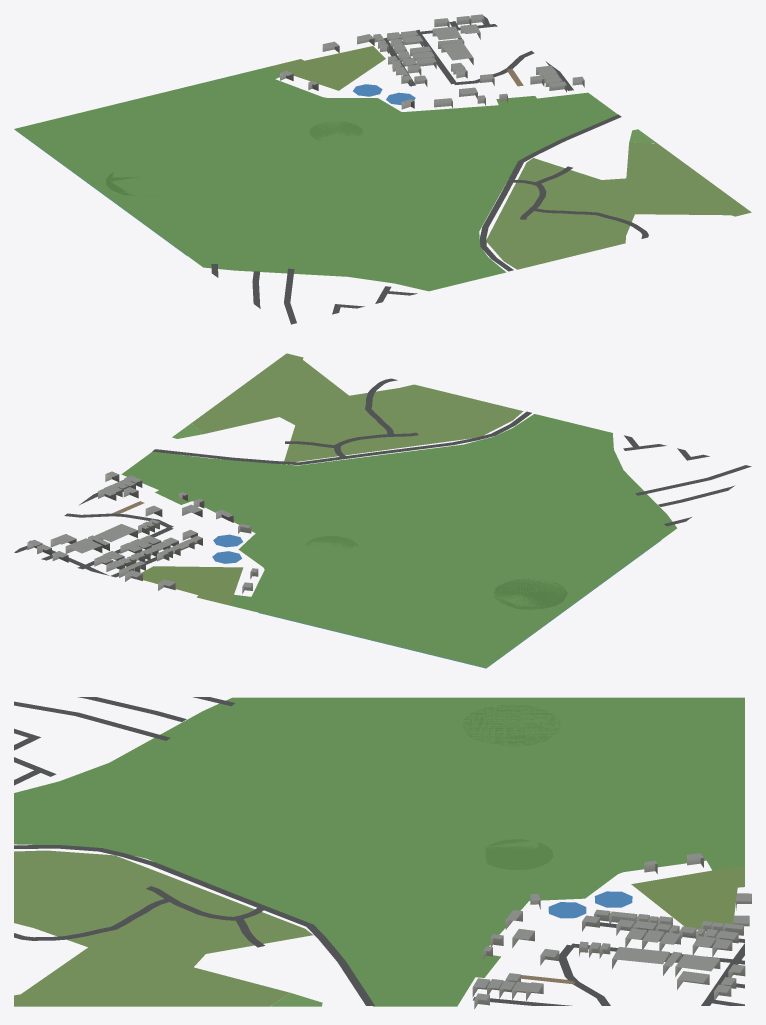
3 renders of one model, top to bottom at view 1: azimuth 30°, elevation 25°; view 2: azimuth 150°, elevation 25°; view 3: azimuth 270°, elevation 25°, orthographic. The views are drawn at different scales.
Parts seen in each view (by area): view 1: ground, building, water; view 2: ground, building, water; view 3: ground, building, water.
Part boxes in pixels (x1,y1,x2,y2): ground: (14,15,751,324); building: (280,14,584,109); water: (14,84,415,255); ground: (14,353,751,667); building: (27,471,258,593); water: (212,534,660,668); ground: (14,697,744,1006); building: (472,853,751,1009); water: (548,891,632,918).
Size of the model in its own units: 505 by 8 by 505.
